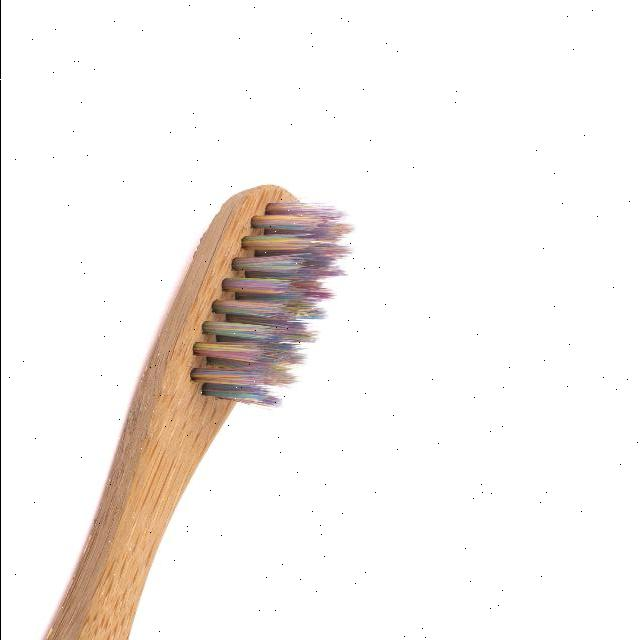toothbrush: (0, 146, 372, 640)
